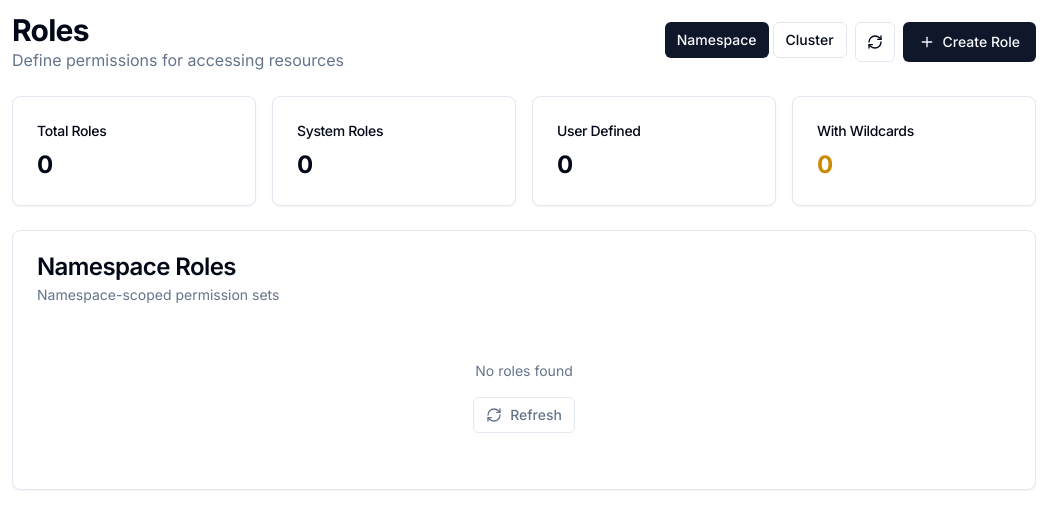
Test: RolesView › User Interactions › should switch between namespace and cluster roles
Click the button "Cluster" at (810, 40), box [773,22,847,58]
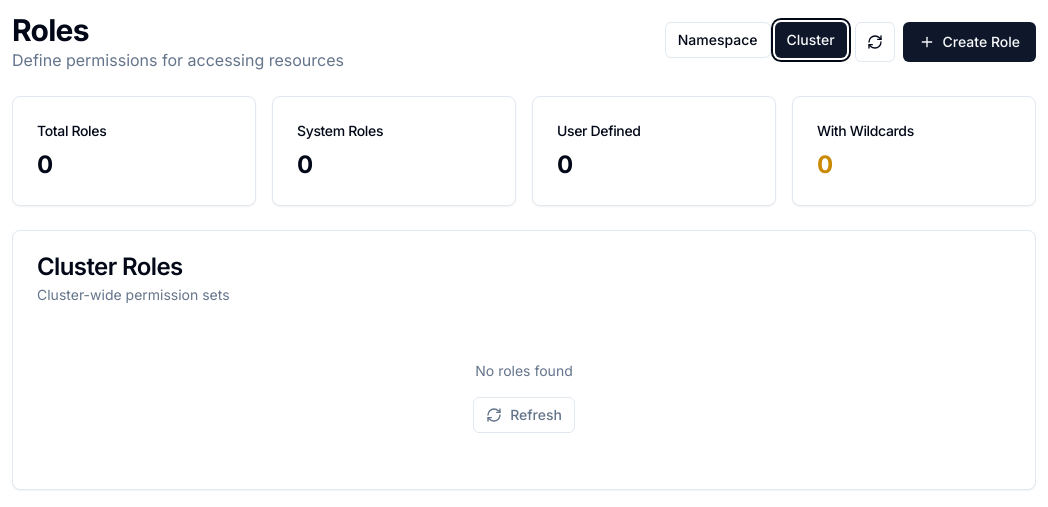
Check: the heading "Cluster Roles" is shown, box [37,252,183,281]
